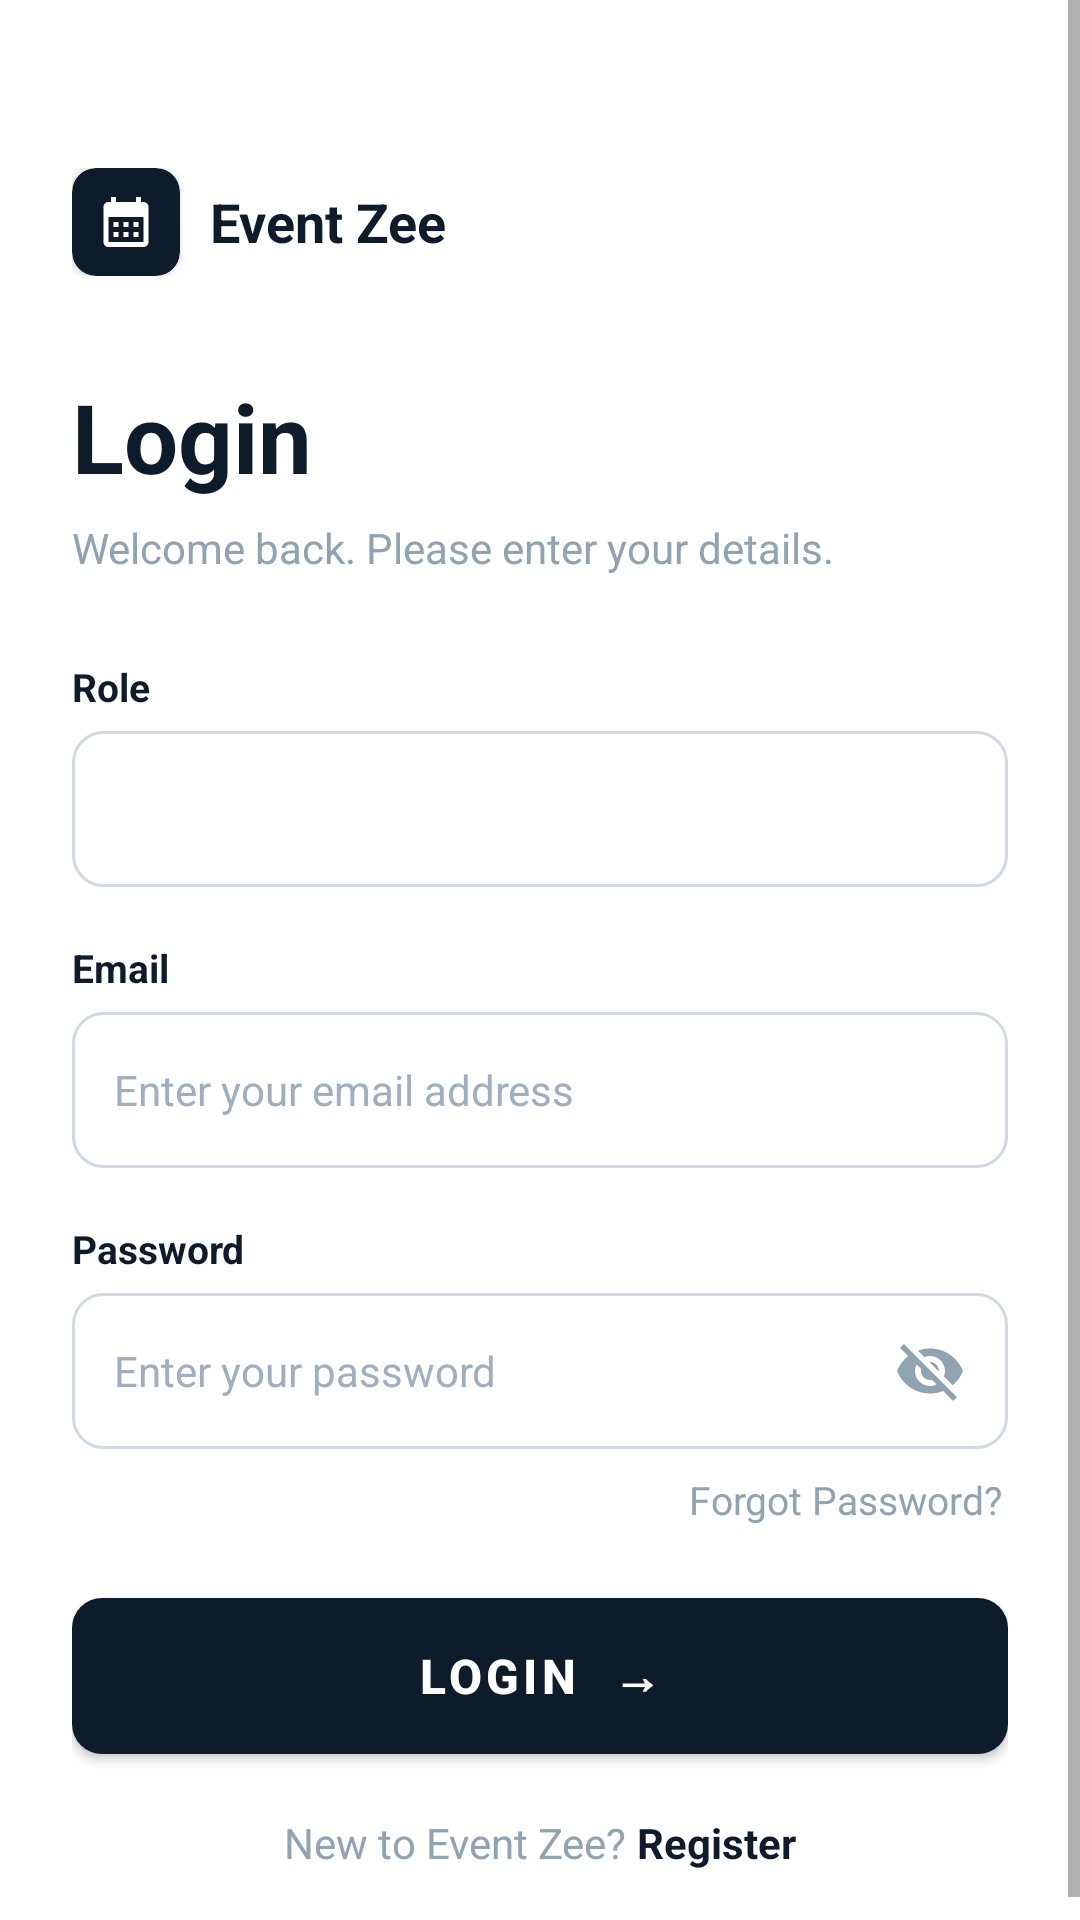

Icons on this 1080px x 1920px Android screen, each with the point to tap as (x,y):
eye off: (930,1372)
